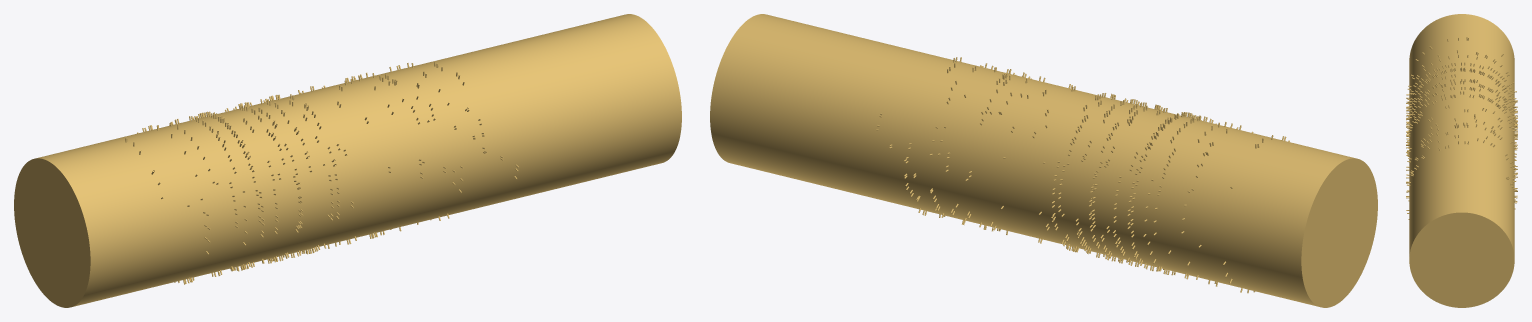
The model's file is Cylinder-1-Strauss.glb.
3 renders of one model, left to right at view 1: azimuth 30°, elevation 25°; view 2: azimuth 150°, elevation 25°; view 3: azimuth 270°, elevation 25°, orthographic. The views are drawn at different scales.
Parts seen in each view (by area): view 1: cylinder_body; view 2: cylinder_body; view 3: cylinder_body.
Part boxes in pixels (left/top/right/bottom): cylinder_body: left=14, top=14, right=681, bottom=307; cylinder_body: left=710, top=14, right=1377, bottom=307; cylinder_body: left=1409, top=14, right=1514, bottom=307.
Bounding box in the file's own units: 0.214 × 0.051 × 0.051.
